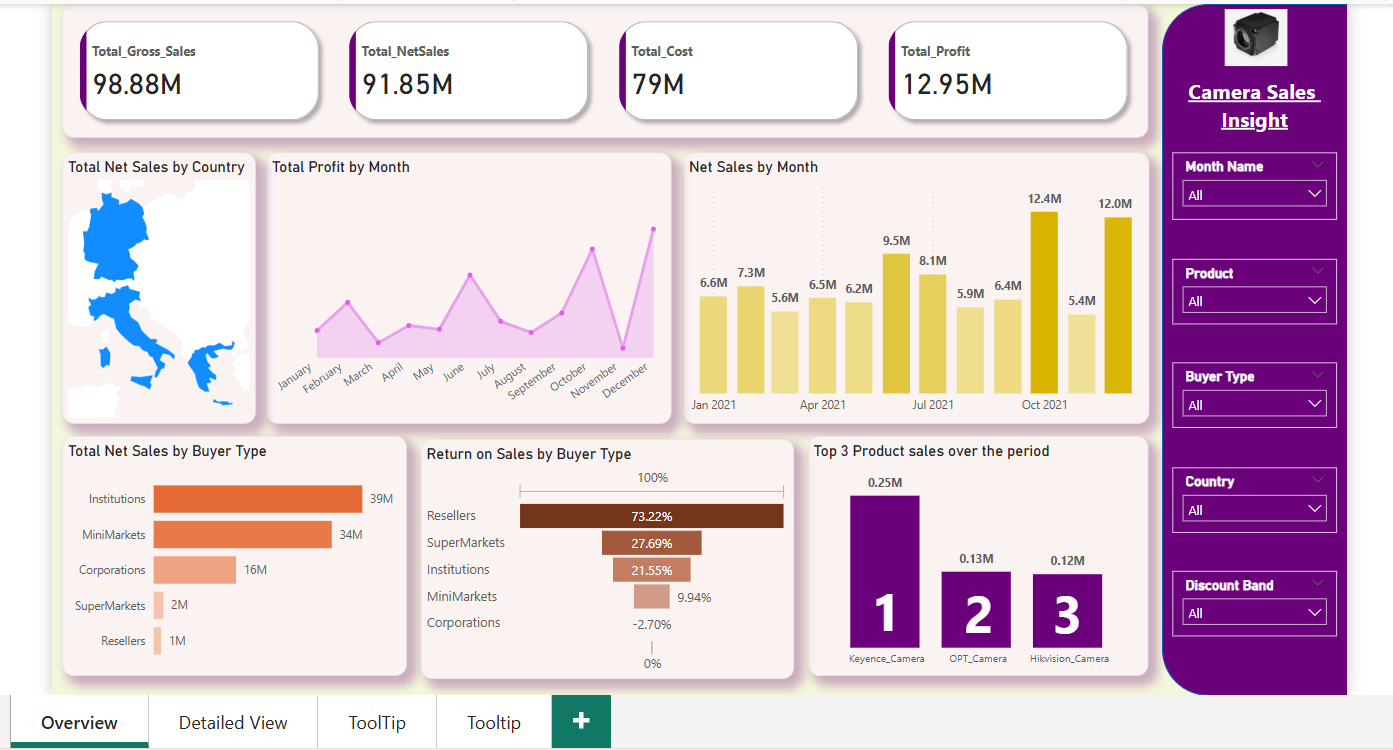

The page's visual inventory and layout, read from the dashboard file:
{"tool":"powerbi","page":{"name":"Overview","canvas":[1350,720],"ordinal":0},"visuals":[{"type":"shape","box":[1156.2,0,194.4,721],"z":0},{"type":"cardVisual","fields":{"Data":["Measure_.Total_Gross_Sales","Measure_.Total_NetSales","Measure_.Total_Cost","Measure_.Total_Profit"]},"box":[11.6,0,1131.3,139.5],"z":1000},{"type":"columnChart","title":"Net Sales by Month","fields":{"Y":["Measure_.Total_NetSales"],"Category":["Mediterranean Cameras Company.Date"]},"box":[657.8,154.5,485.1,282.4],"z":2000},{"type":"areaChart","title":"Total Profit by Month","fields":{"Category":["Calendar.Date.Variation.Date Hierarchy.Month"],"Y":["Measure_.Total_Profit"]},"box":[224.3,154.5,421.9,282.4],"z":3000},{"type":"shapeMap","title":"Total Net Sales by Country","fields":{"Category":["Mediterranean Cameras Company.Country"],"Value":["Measure_.Total_NetSales"]},"box":[11.6,154.5,201,282.4],"z":4000},{"type":"barChart","title":"Total Net Sales by Buyer Type","fields":{"Y":["Measure_.Total_NetSales"],"Category":["Mediterranean Cameras Company.Buyer Type"]},"box":[10.7,450.7,358.9,249.9],"z":5000},{"type":"clusteredColumnChart","title":"Top 3 Product sales over the period","fields":{"Category":["Mediterranean Cameras Company.Product"],"Y":["Measure_.Total_Units_Sold"]},"box":[788.2,450.7,354.6,249.9],"z":6000},{"type":"slicer","fields":{"Values":["Calendar.Month Name"]},"box":[1167.8,154.5,171.1,69.8],"z":7000},{"type":"slicer","fields":{"Values":["Mediterranean Cameras Company.Product"]},"box":[1167.8,265,171.1,68.1],"z":8000},{"type":"slicer","fields":{"Values":["Mediterranean Cameras Company.Buyer Type"]},"box":[1167.8,373.8,171.1,68.1],"z":9000},{"type":"slicer","fields":{"Values":["Mediterranean Cameras Company.Country"]},"box":[1167.8,482.6,171.1,68.1],"z":10000},{"type":"slicer","fields":{"Values":["Mediterranean Cameras Company.Discount Band"]},"box":[1167.8,591.4,171.1,68.1],"z":11000},{"type":"image","box":[1206,0,96.4,69.8],"z":12000},{"type":"textbox","box":[1167.8,69.8,171.1,69.8],"z":13000},{"type":"textbox","box":[848.7,590.8,37.5,81.3],"z":14000},{"type":"textbox","box":[946.3,591.7,38.4,83.3],"z":15000},{"type":"textbox","box":[1038.1,591.7,38.4,106.8],"z":16000},{"type":"funnel","fields":{"Category":["Mediterranean Cameras Company.Buyer Type"],"Y":["Measure_.Return on Sales"]},"box":[384.5,452.8,388.8,249.9],"z":17000}]}

Visuals, with their boxes on the page's 1350x720 design canvas (x1, y1, x2, y2). These are canvas units, not pixel positions in the 1393x750 screenshot, which may show the page scaled, cropped or inside an application window:
shape: bbox=(1156, 0, 1351, 721)
cardVisual - Measure_.Total_Gross_Sales x Measure_.Total_NetSales: bbox=(12, 0, 1143, 140)
"Net Sales by Month" columnChart: bbox=(658, 154, 1143, 437)
"Total Profit by Month" areaChart: bbox=(224, 154, 646, 437)
"Total Net Sales by Country" shapeMap: bbox=(12, 154, 213, 437)
"Total Net Sales by Buyer Type" barChart: bbox=(11, 451, 370, 701)
"Top 3 Product sales over the period" clusteredColumnChart: bbox=(788, 451, 1143, 701)
slicer - Calendar.Month Name: bbox=(1168, 154, 1339, 224)
slicer - Mediterranean Cameras Company.Product: bbox=(1168, 265, 1339, 333)
slicer - Mediterranean Cameras Company.Buyer Type: bbox=(1168, 374, 1339, 442)
slicer - Mediterranean Cameras Company.Country: bbox=(1168, 483, 1339, 551)
slicer - Mediterranean Cameras Company.Discount Band: bbox=(1168, 591, 1339, 660)
image: bbox=(1206, 0, 1302, 70)
textbox: bbox=(1168, 70, 1339, 140)
textbox: bbox=(849, 591, 886, 672)
textbox: bbox=(946, 592, 985, 675)
textbox: bbox=(1038, 592, 1076, 698)
funnel - Mediterranean Cameras Company.Buyer Type x Measure_.Return on Sales: bbox=(384, 453, 773, 703)
